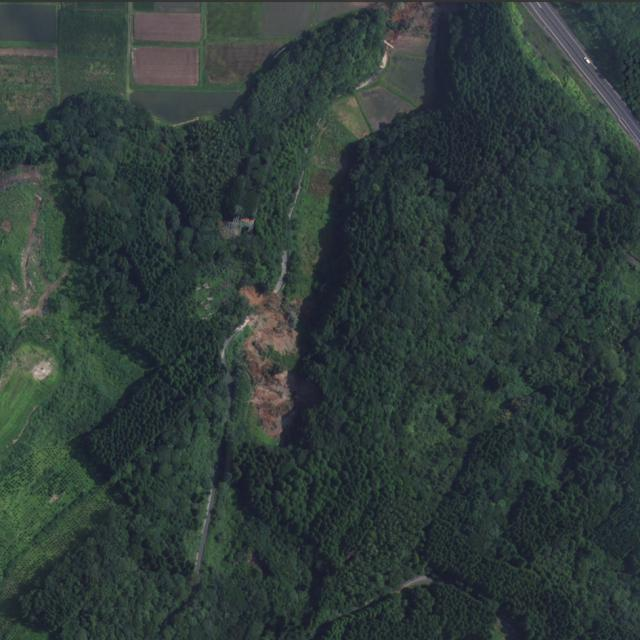landslide: (242, 286, 301, 439)
